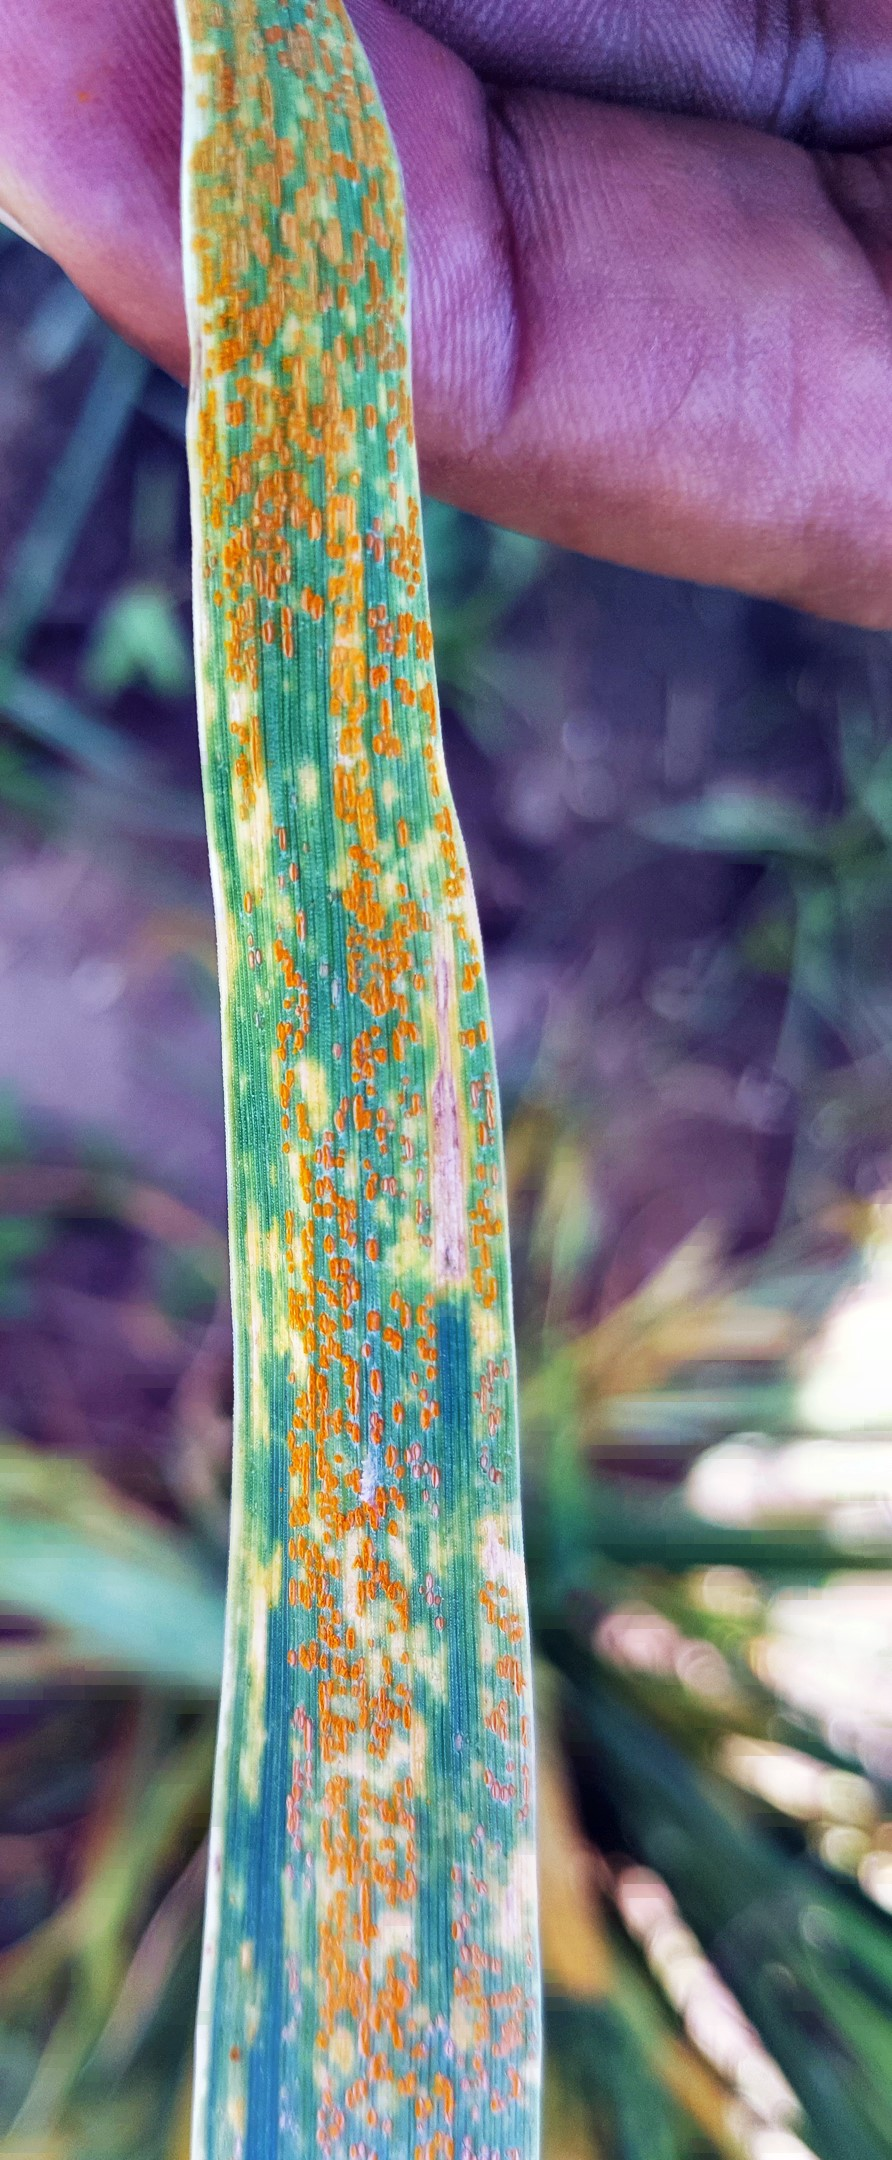Leaf Rust: (145, 45, 570, 2070)
